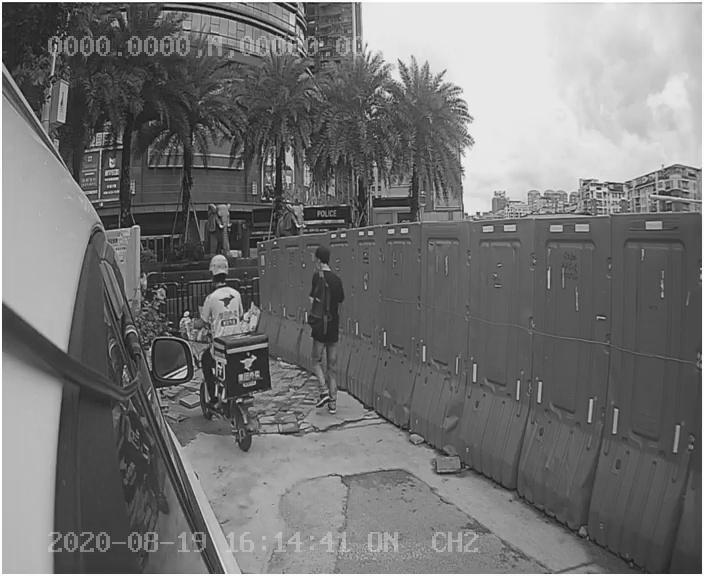person: (297, 242, 362, 425)
